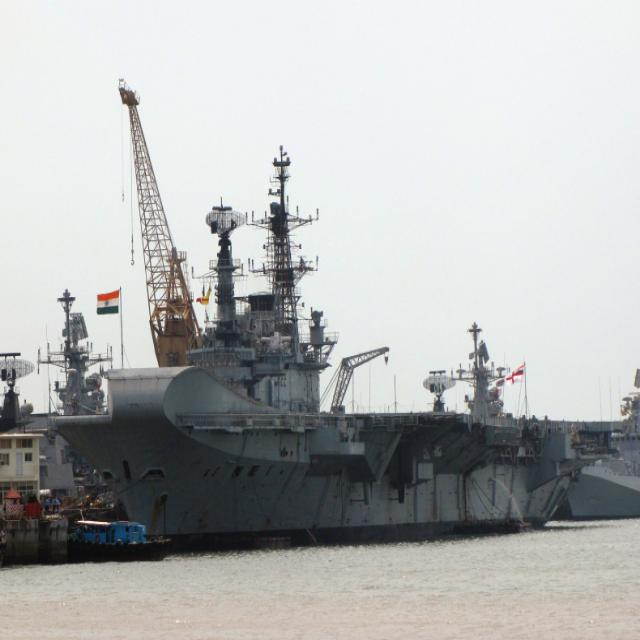Portanaves: (50, 143, 627, 550)
